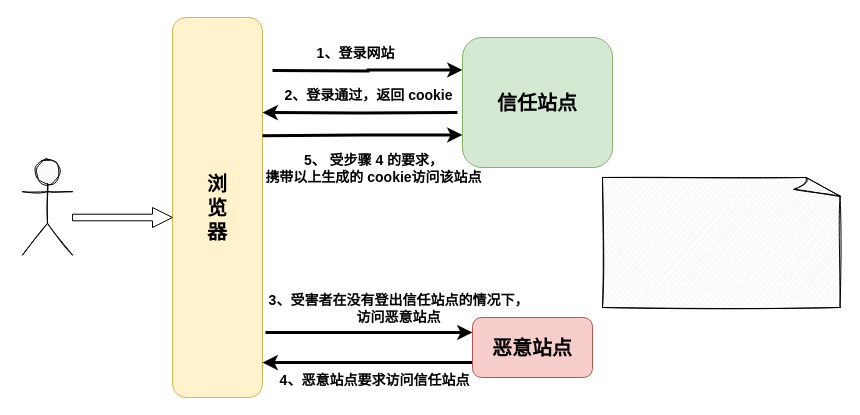
The diagram is 860 pixels wide and 415 high, and some of its shapes have lost their labels. The box of each missing label's shape, as (x1, y1, x2, y2) in pixels:
6、由于带上了该信任站点的 cookie，因此信任站点会处理恶意站点的请求，达到了伪造用户请求的目的: (602, 176, 842, 308)
受害者: (22, 159, 72, 255)
